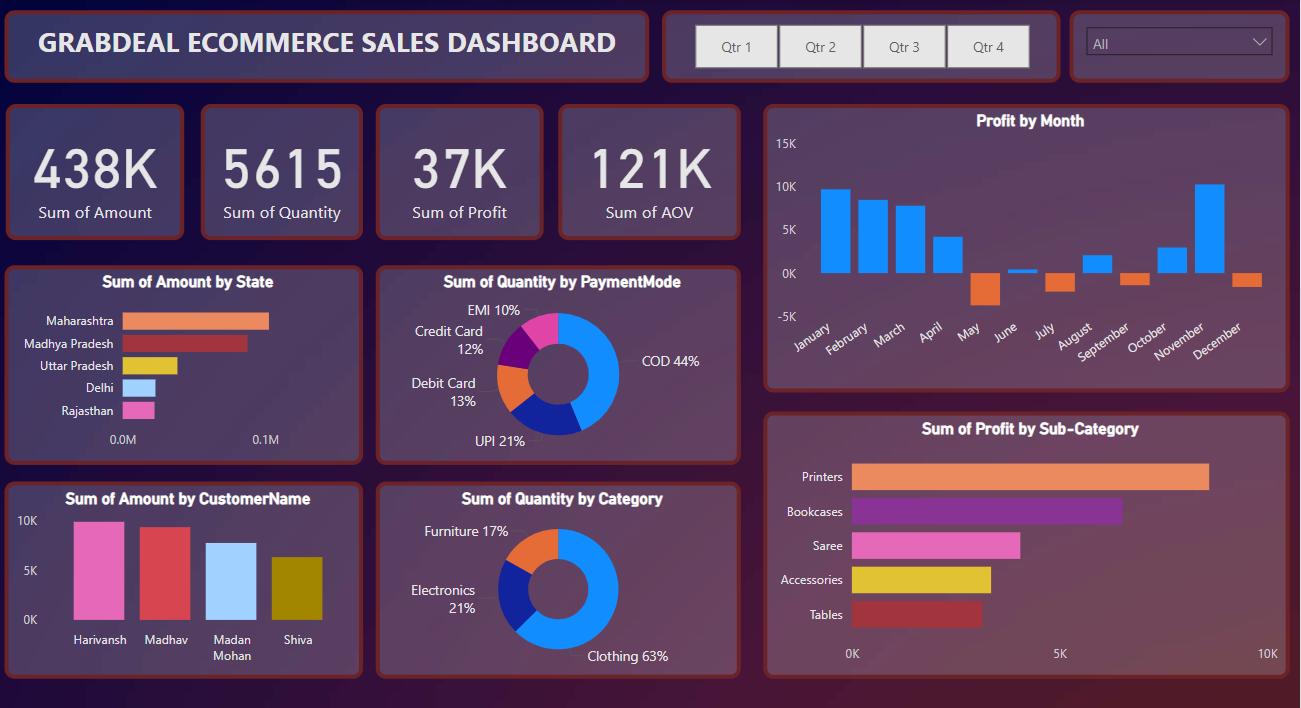

The dashboard page shown, as its layout file describes it:
{"tool":"powerbi","page":{"name":"Page 1","canvas":[1280,720],"ordinal":0},"visuals":[{"type":"textbox","box":[7.4,11,633.1,71.2],"z":0},{"type":"columnChart","title":" Profit by Month","fields":{"Category":["Orders.Order Date.Variation.Date Hierarchy.Month"],"Y":["Details.Profit"]},"box":[752.2,103.1,516.6,283.4],"z":1000},{"type":"barChart","fields":{"Category":["Details.Sub-Category"],"Y":["Details.Profit"]},"box":[752.2,404.9,516.6,262.6],"z":2000},{"type":"donutChart","fields":{"Category":["Details.Category"],"Y":["Details.Quantity"]},"box":[371.8,473.6,358.3,193.9],"z":3000},{"type":"donutChart","fields":{"Y":["Details.Quantity"],"Category":["Details.PaymentMode"]},"box":[371.8,261.4,358.3,196.3],"z":4000},{"type":"card","fields":{"Values":["Details.Amount"]},"box":[8.6,103.1,175.5,133.7],"z":5000},{"type":"card","fields":{"Values":["Details.Quantity"]},"box":[200,103.1,159.5,133.7],"z":6000},{"type":"card","fields":{"Values":["Details.Profit"]},"box":[371.8,103.1,164.4,133.7],"z":7000},{"type":"card","fields":{"Values":["Details.AOV"]},"box":[550.9,103.1,179.1,133.7],"z":8000},{"type":"barChart","fields":{"Category":["Orders.State"],"Y":["Details.Amount"]},"box":[7.4,261.4,352.1,196.3],"z":9000},{"type":"columnChart","fields":{"Category":["Orders.CustomerName"],"Y":["Details.Amount"]},"box":[7.4,473.6,352.1,193.9],"z":10000},{"type":"slicer","fields":{"Values":["Orders.Order Date.Variation.Date Hierarchy.Quarter"]},"box":[652.8,11,391.4,71.2],"z":11000},{"type":"slicer","fields":{"Values":["Orders.State"]},"box":[1052.8,11,227,71.2],"z":12000}]}

Visuals, with their boxes on the page's 1280x720 design canvas (x1, y1, x2, y2). These are canvas units, not pixel positions in the 1301x708 screenshot, which may show the page scaled, cropped or inside an application window:
textbox: (7, 11, 640, 82)
" Profit by Month" columnChart: (752, 103, 1269, 386)
barChart - Details.Sub-Category x Details.Profit: (752, 405, 1269, 668)
donutChart - Details.Category x Details.Quantity: (372, 474, 730, 668)
donutChart - Details.Quantity x Details.PaymentMode: (372, 261, 730, 458)
card - Details.Amount: (9, 103, 184, 237)
card - Details.Quantity: (200, 103, 360, 237)
card - Details.Profit: (372, 103, 536, 237)
card - Details.AOV: (551, 103, 730, 237)
barChart - Orders.State x Details.Amount: (7, 261, 360, 458)
columnChart - Orders.CustomerName x Details.Amount: (7, 474, 360, 668)
slicer - Orders.Order Date.Variation.Date Hierarchy.Quarter: (653, 11, 1044, 82)
slicer - Orders.State: (1053, 11, 1280, 82)
